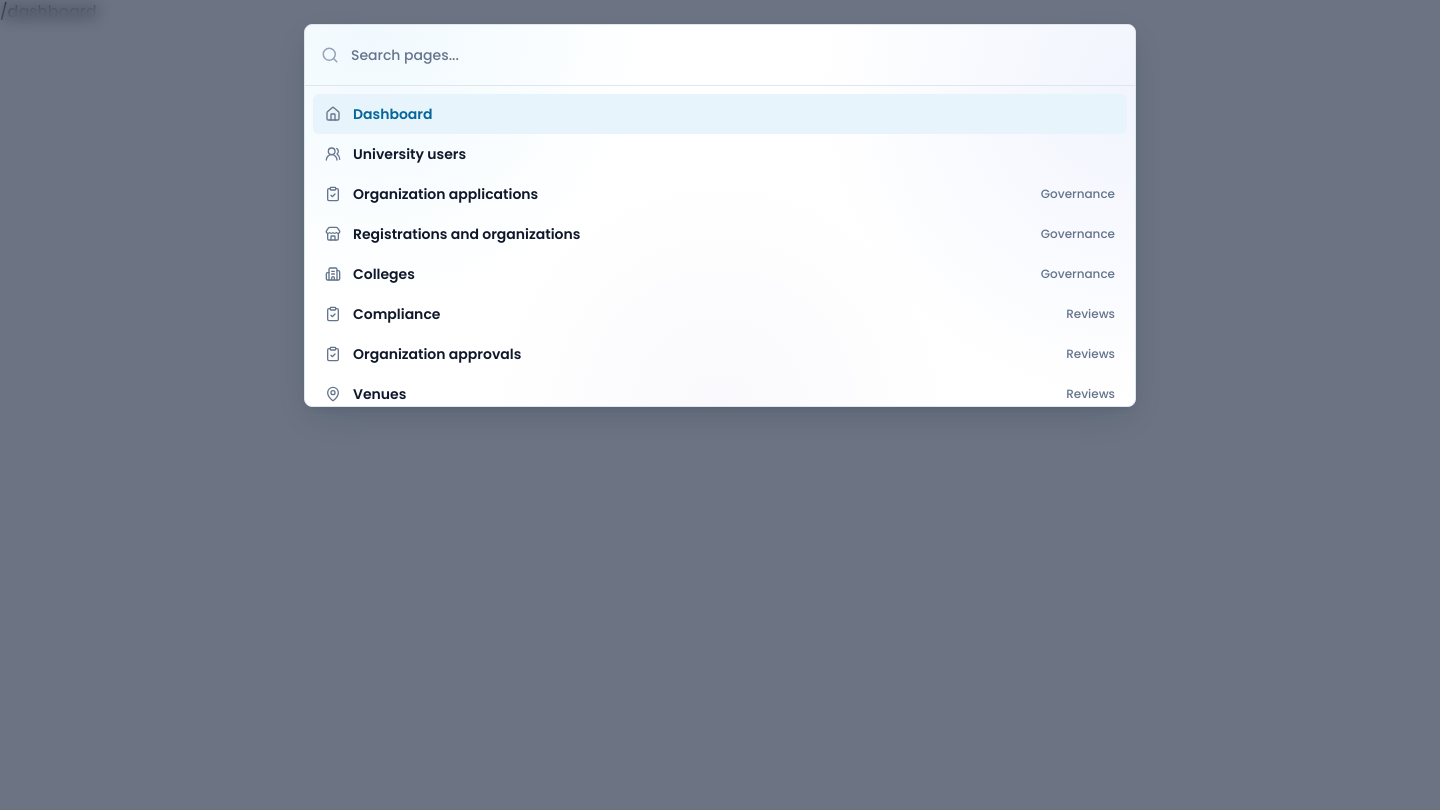
Test: CommandPalette › finds SUPER_ADMIN page by its old name Academic Years and shows the new label Academic years
Type "Academic Years" into the dropdown labelled "Search pages" at (735, 55), box [351,37,1119,73]
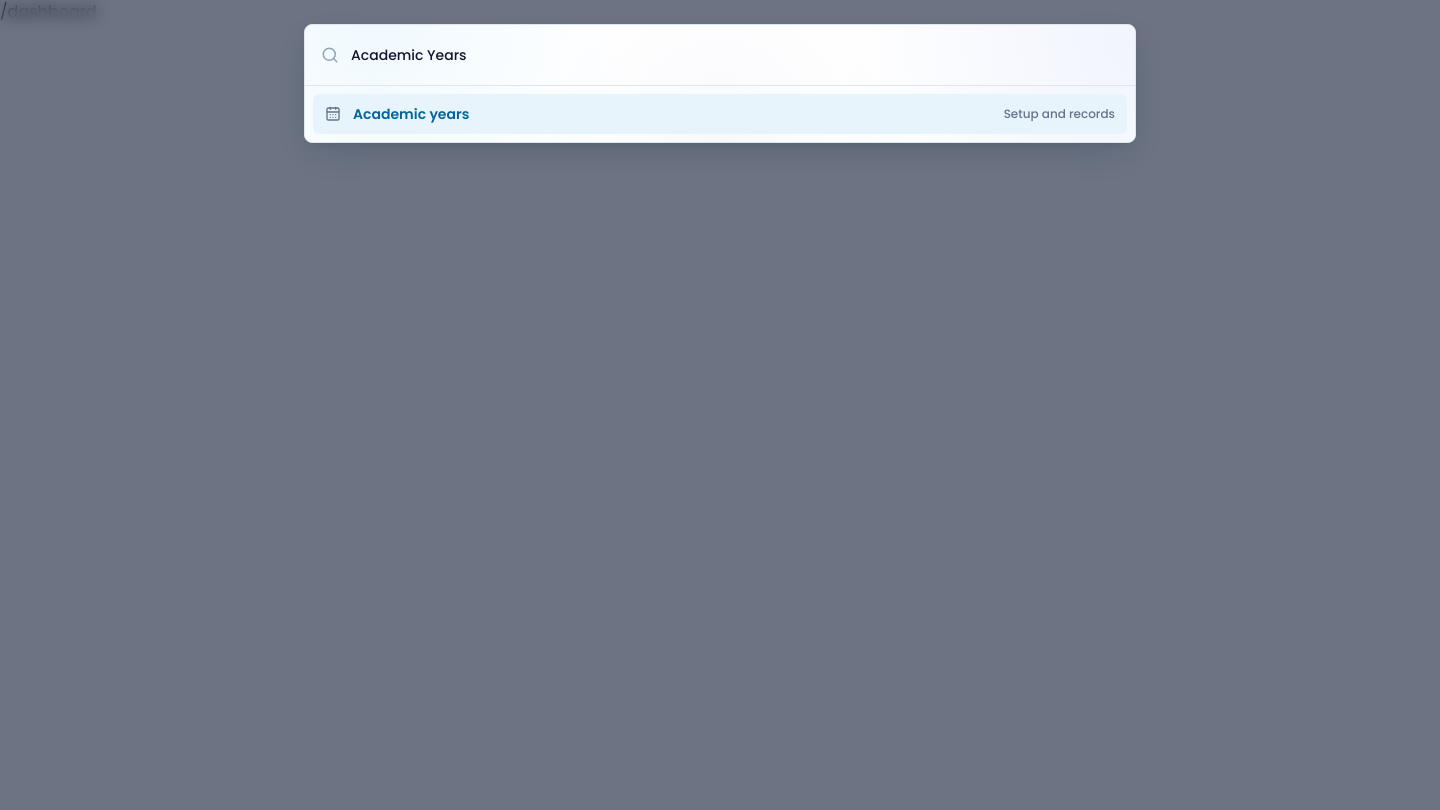
Expected: the option shows "Academic years", [313,94,1127,134]
Press Enter in the dropdown named "Search pages", box [351,37,1119,73]
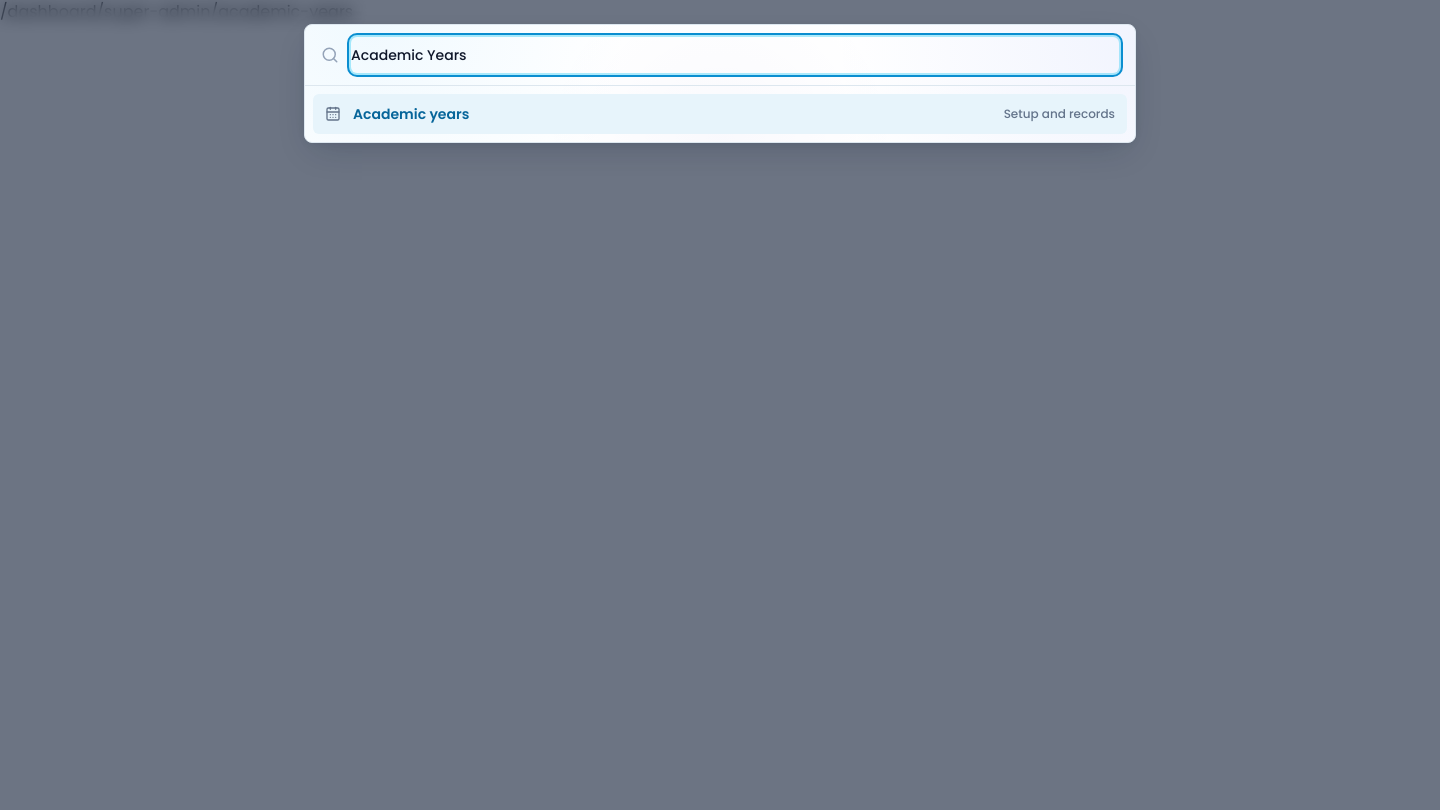
Expected: the text with test id "path" reads "/dashboard/super-admin/academic-years", [0,0,353,23]
